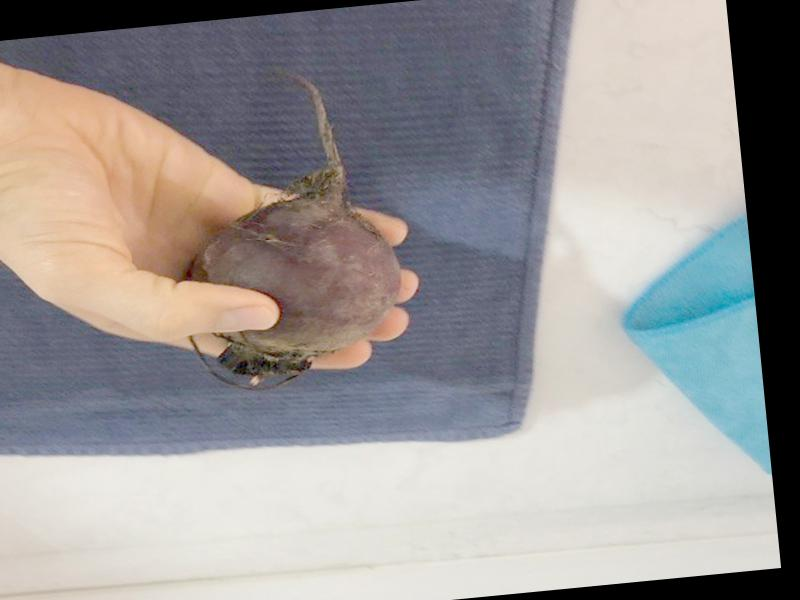Beet: (162, 67, 408, 394)
